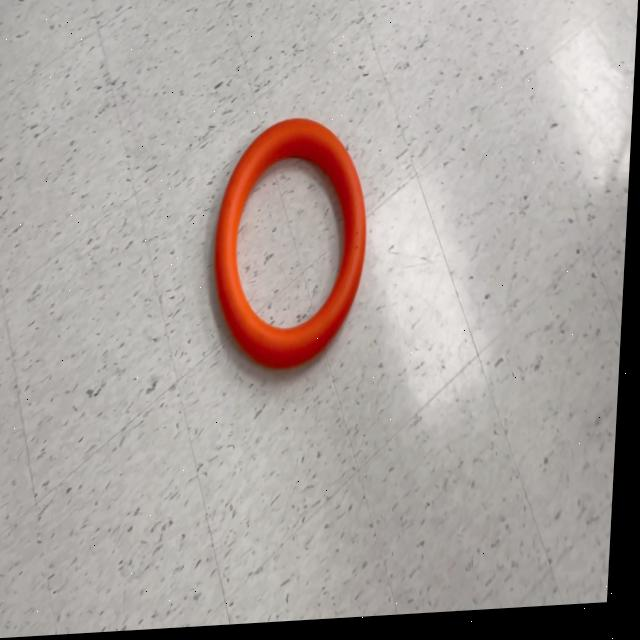note: (209, 118, 375, 380)
